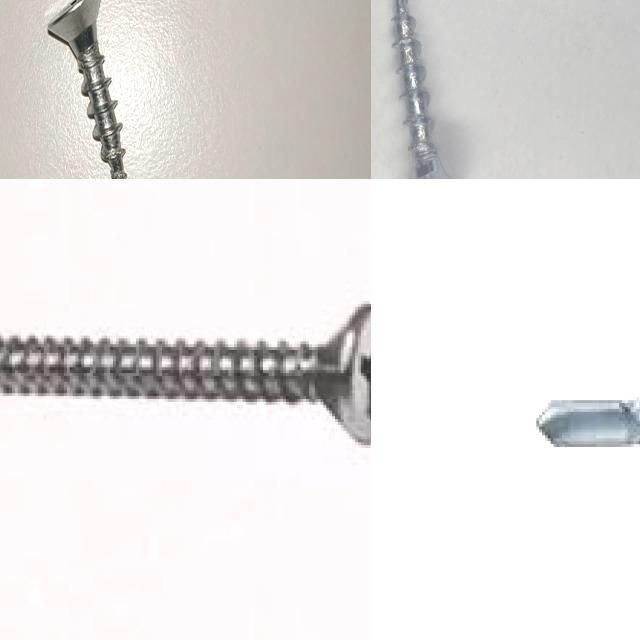Screw: (0, 304, 371, 447), (47, 0, 127, 179), (392, 0, 453, 179), (536, 397, 640, 450)
